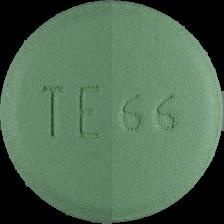0615-7688: (0, 0, 224, 224)
